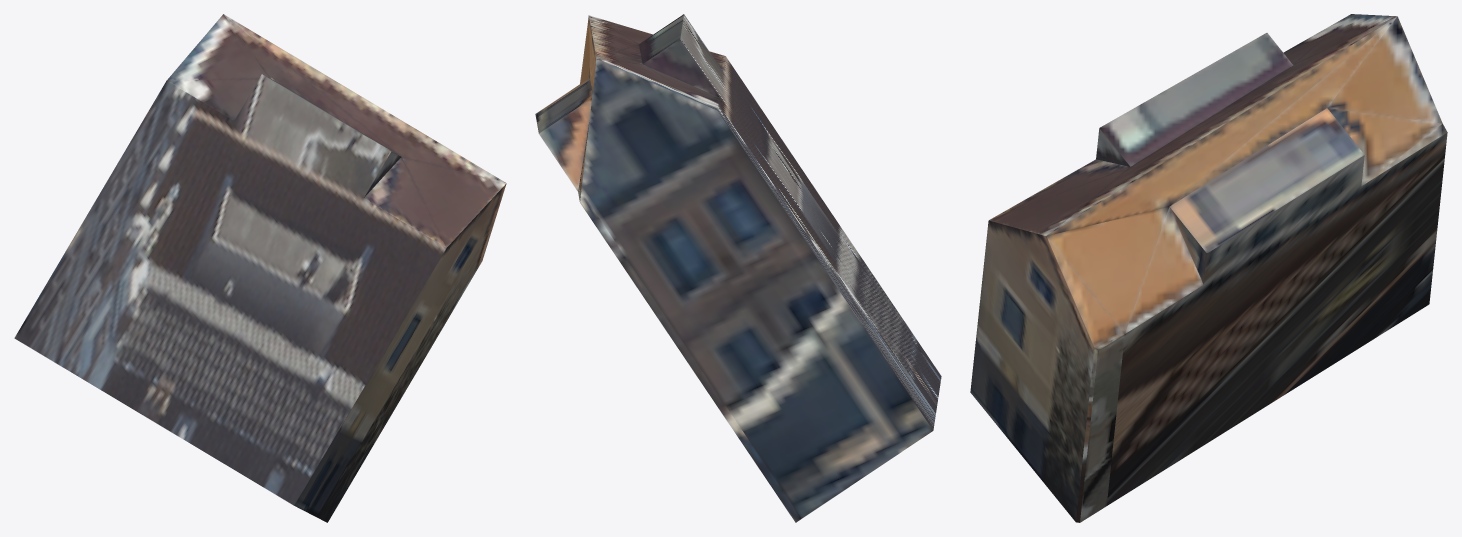
The picture shows the model from 3 angles, left to right: view 1: azimuth 30°, elevation 25°; view 2: azimuth 150°, elevation 25°; view 3: azimuth 270°, elevation 25°; orthographic projection. The views are drawn at different scales.
Parts seen in each view (by area): view 1: BAG_0599100010033192 (×4); view 2: BAG_0599100010033192 (×5); view 3: BAG_0599100010033192 (×6).
Part boxes in pixels (box(x1,y1,x2,y2)): BAG_0599100010033192 (×4): box(14, 14, 506, 522); BAG_0599100010033192 (×5): box(535, 14, 941, 522); BAG_0599100010033192 (×6): box(970, 14, 1447, 522).
Size of the model in its own units: 13.99 by 14.48 by 12.03.
1 material, 1 textured.
